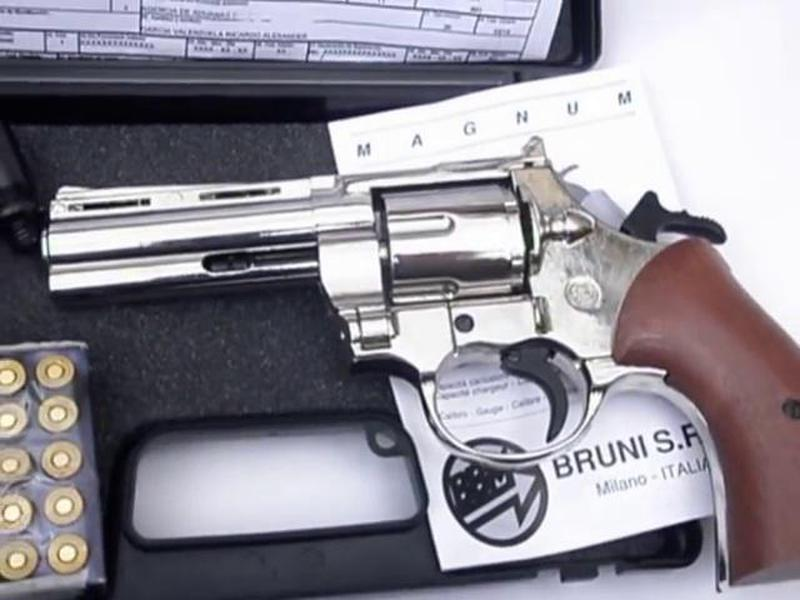Revolver: (35, 140, 800, 508)
